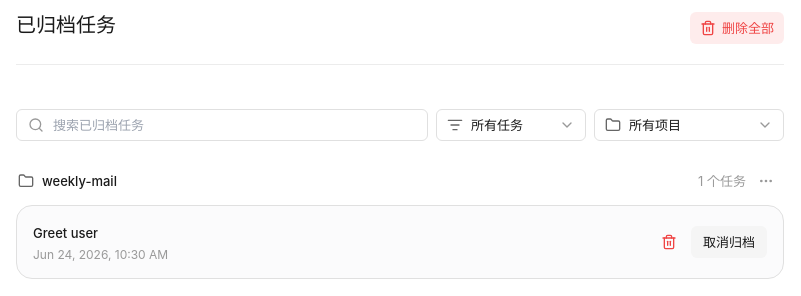
it: ArchivedConversationsSettingsPage › does not report unarchive success when the server rejects the operation
The width and height of the screenshot is (801, 296).
Expected: the button "Greet user" is shown, [33, 224, 98, 242]
Click the button with test id "archived-unarchive-button-device-1-codex-1" at (729, 242), box [691, 226, 767, 258]
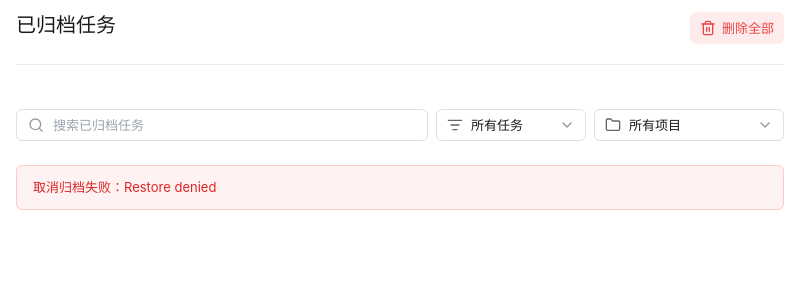
Expected: the text "取消归档失败：Restore denied" is shown, [16, 165, 784, 210]
